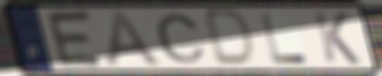A: (104, 9, 166, 68)
C: (153, 12, 209, 65)
D: (204, 8, 257, 69)
E: (44, 9, 107, 68)
K: (310, 10, 363, 66)
L: (258, 11, 312, 66)
